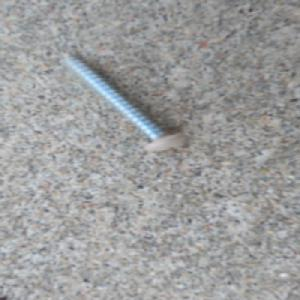Screw: (57, 49, 190, 154)
